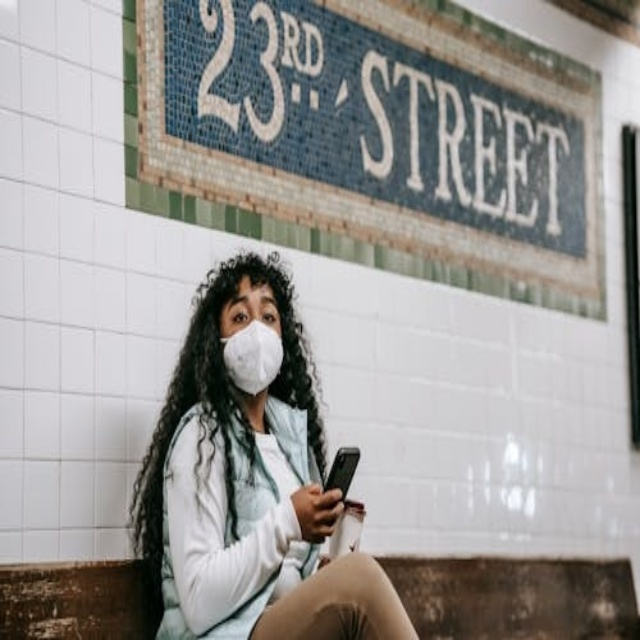Mascara: (220, 320, 285, 396)
Sin_gafas: (219, 288, 282, 319)
Sin_guantes: (291, 471, 348, 544)
